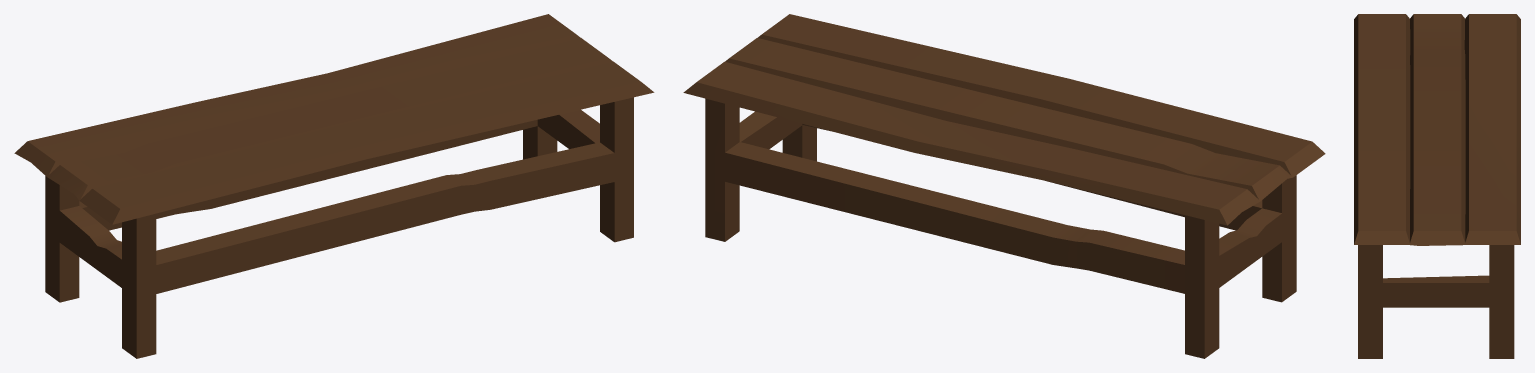
File: bench02.fbx
3 renders of one model, left to right at view 1: azimuth 30°, elevation 25°; view 2: azimuth 150°, elevation 25°; view 3: azimuth 270°, elevation 25°, orthographic. The views are drawn at different scales.
Visible parts, largest first — view 1: bench02; view 2: bench02; view 3: bench02.
Part boxes in pixels (x1=…): bench02: x1=14, y1=14, x2=654, y2=358; bench02: x1=683, y1=14, x2=1325, y2=358; bench02: x1=1354, y1=14, x2=1520, y2=358.
Bounding box in the file's own units: 341 × 94.56 × 107.
